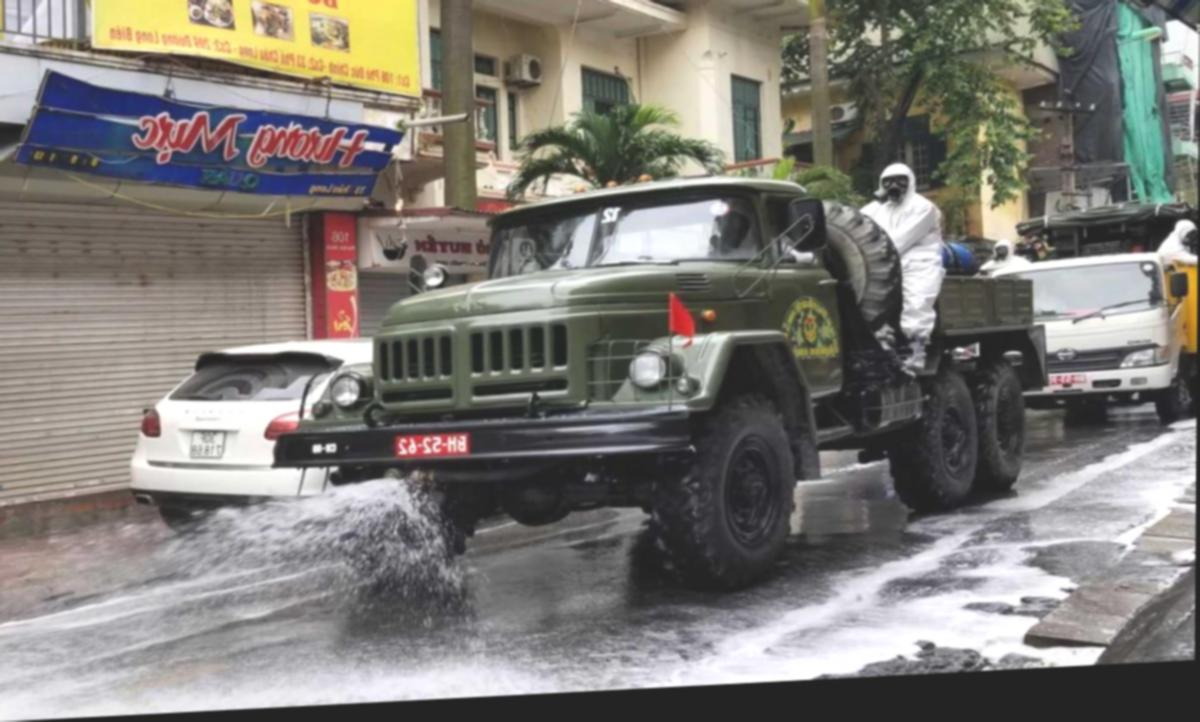License_Plate: (398, 430, 471, 458), (186, 428, 228, 464), (1047, 367, 1090, 389)
